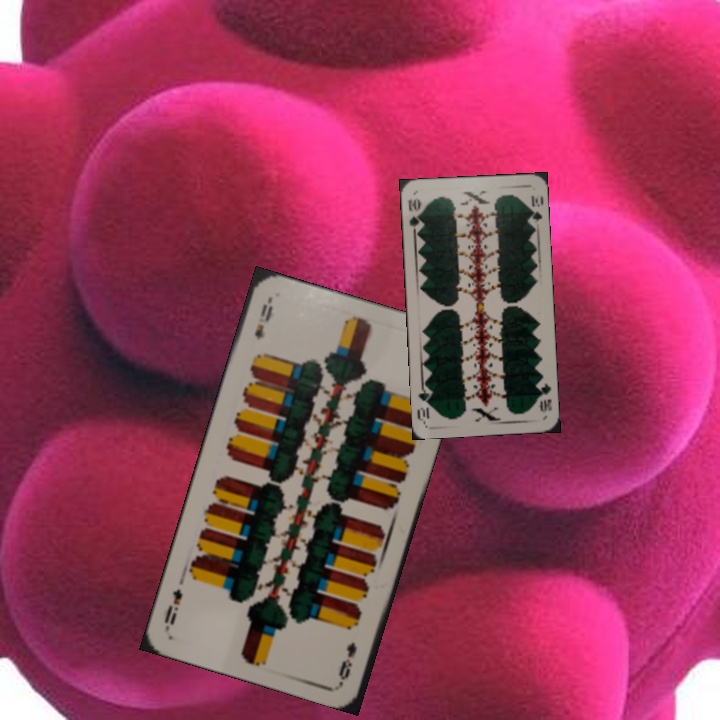E9: (250, 296, 276, 343), (334, 638, 360, 683)
G10: (404, 194, 424, 234), (534, 379, 555, 415)
